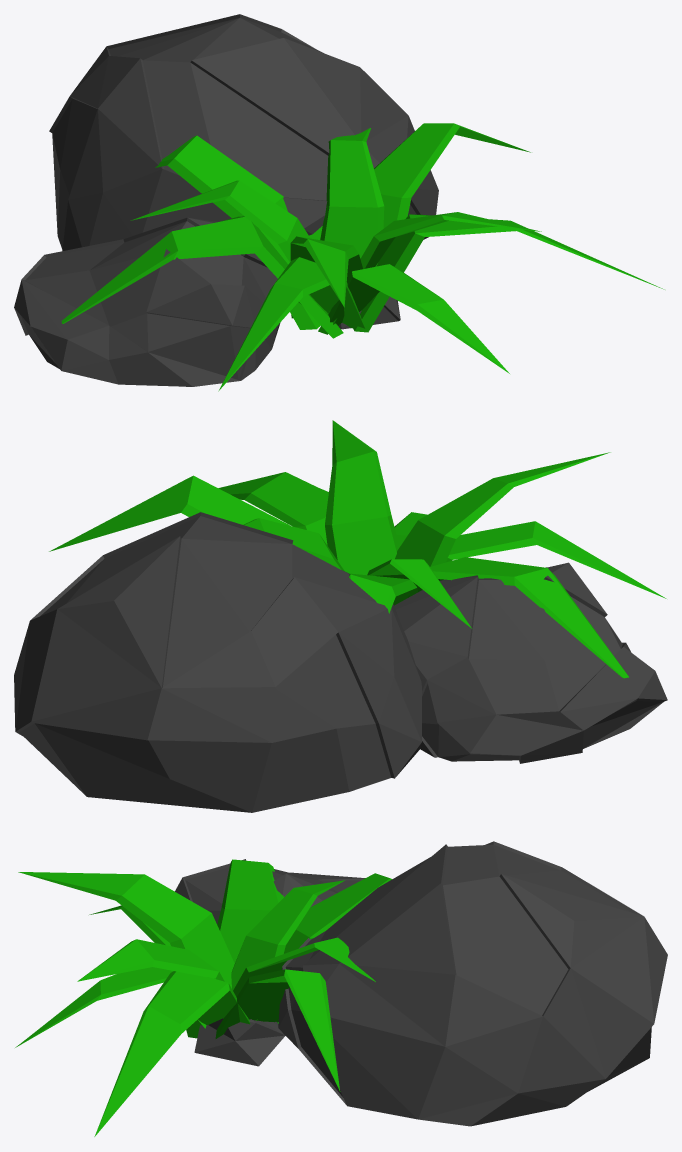
The model's file is rocks-with-grass.fbx.
The picture shows the model from 3 angles, top to bottom: view 1: azimuth 30°, elevation 25°; view 2: azimuth 150°, elevation 25°; view 3: azimuth 270°, elevation 25°; orthographic projection. The views are drawn at different scales.
Parts seen in each view (by area): view 1: Stone_group_average_mossy, Grass_bush_low_01; view 2: Stone_group_average_mossy, Grass_bush_low_01; view 3: Stone_group_average_mossy, Grass_bush_low_01.
Boxes of the visible parts, x1,y1,x2,y2 form: Stone_group_average_mossy: (14,14,438,386); Grass_bush_low_01: (61,123,664,391); Stone_group_average_mossy: (14,512,667,812); Grass_bush_low_01: (49,420,666,678); Stone_group_average_mossy: (175,841,667,1126); Grass_bush_low_01: (15,859,391,1136).
Bounding box in the file's own units: 131 × 45.1 × 146.
